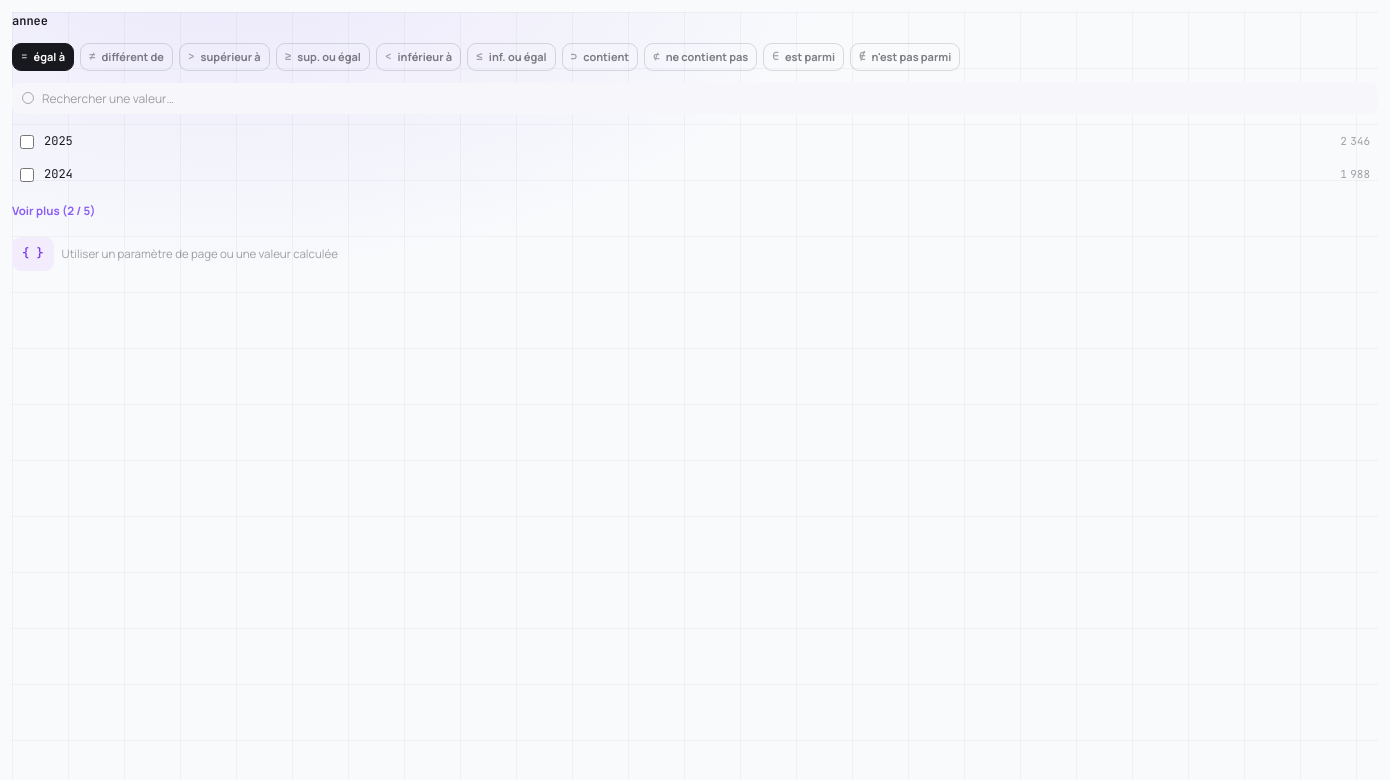
Test: FilterValuesStep › switches to a free-text input for a comparison operator
Click the button "> supérieur à": [224, 57] box [179, 43, 270, 71]
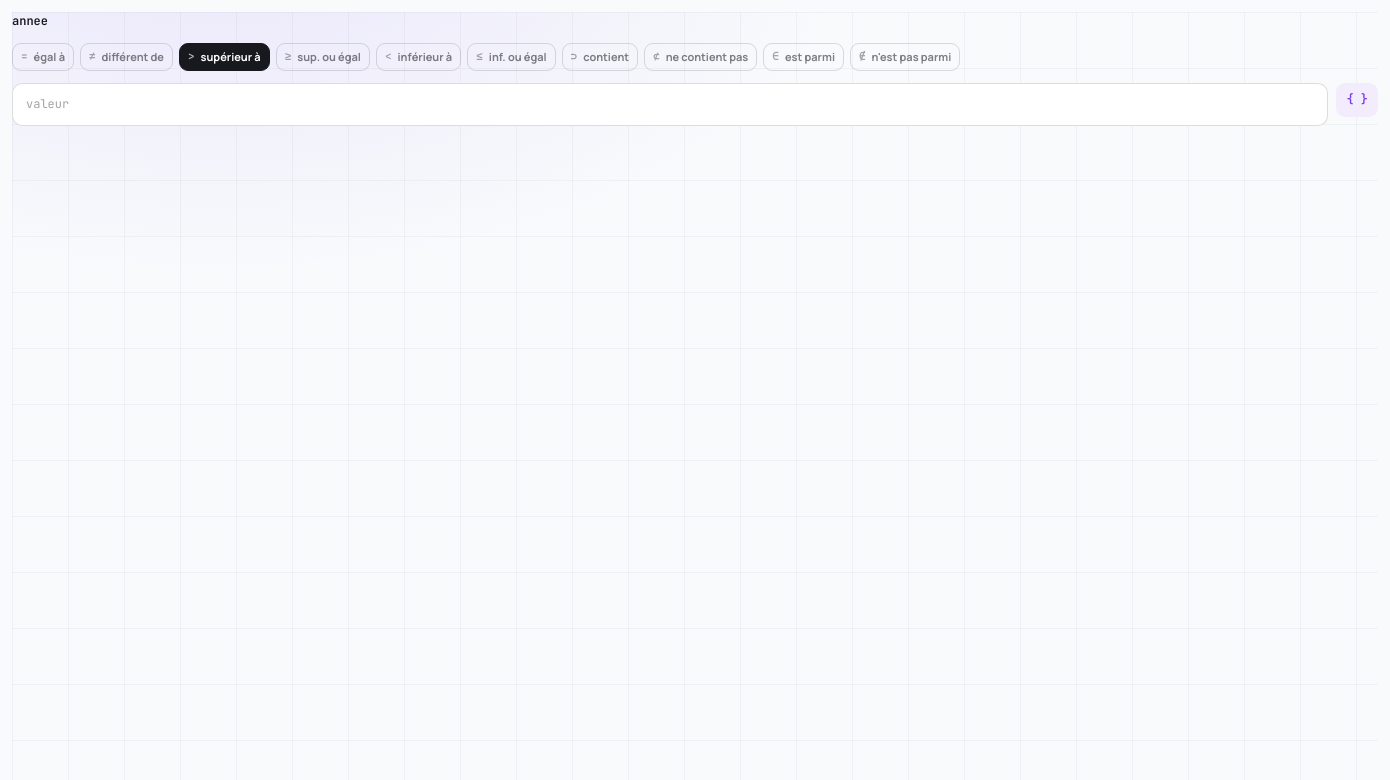
Expected: the field with placeholder "valeur" is shown, [12, 83, 1328, 126]
